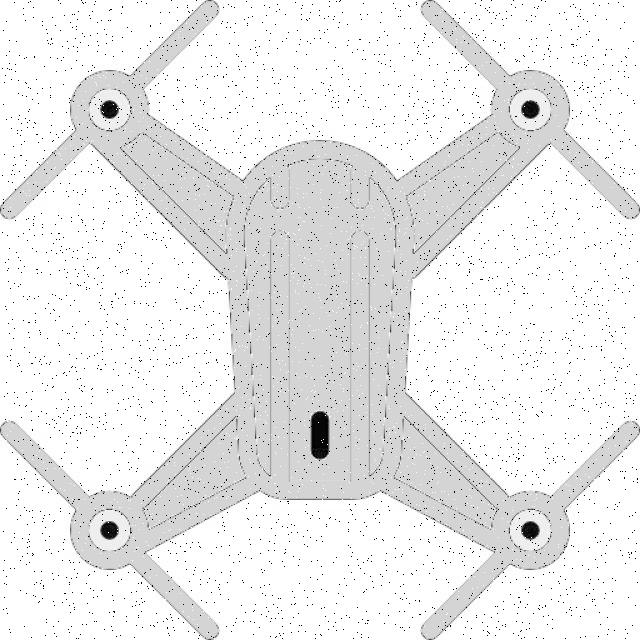drone: (3, 1, 639, 640)
